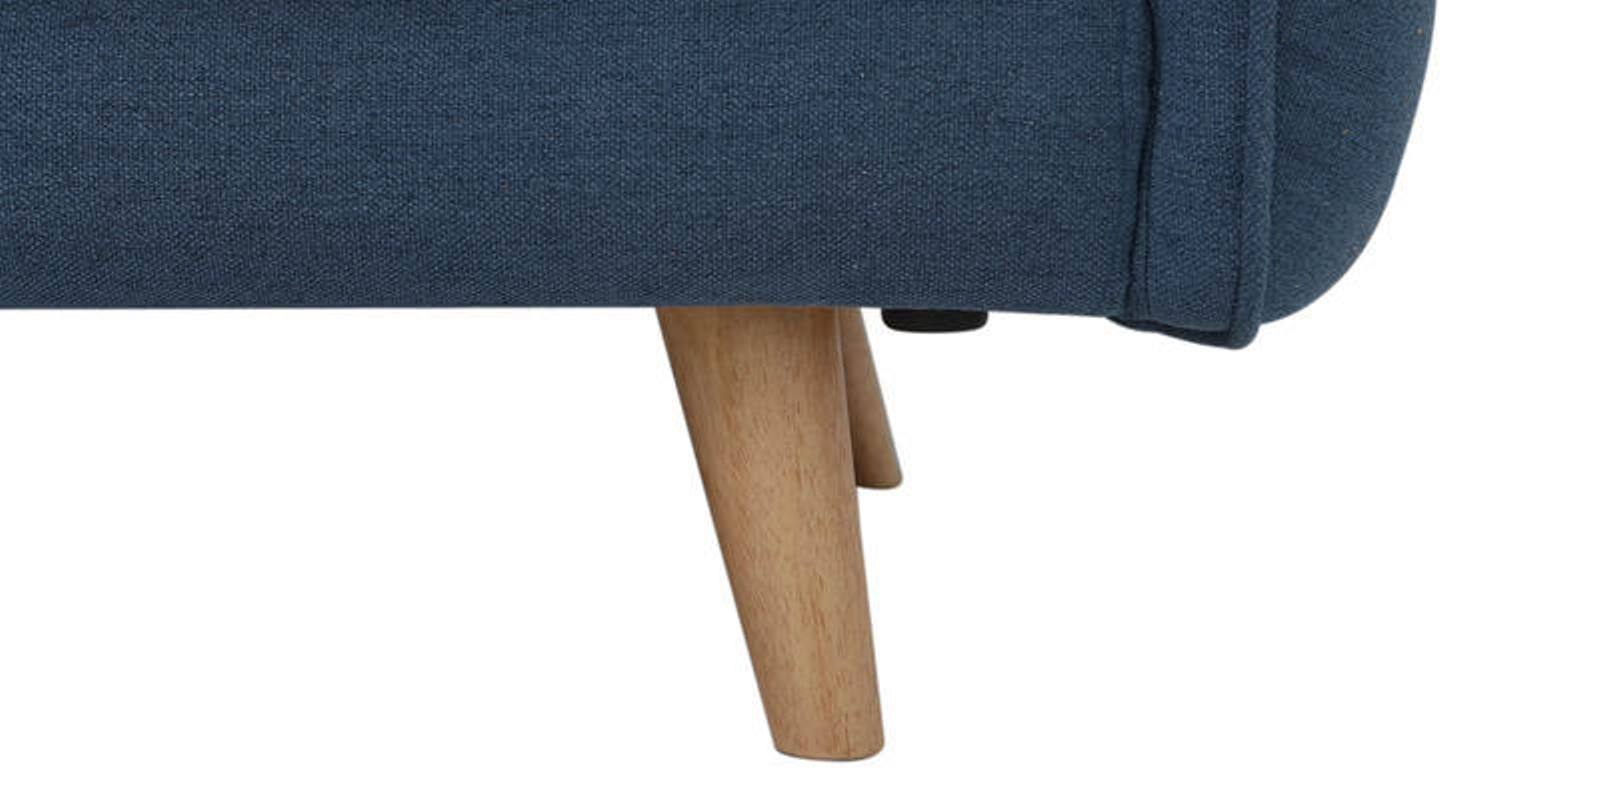Gloria Three Seater Sofa with Ottoman in Blue Colour by CasaCraft: (6, 10, 1496, 800)
